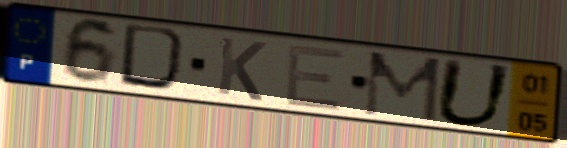6: (56, 16, 123, 89)
D: (115, 21, 195, 96)
E: (282, 43, 348, 114)
K: (214, 34, 269, 104)
M: (360, 49, 445, 125)
U: (430, 56, 517, 130)
